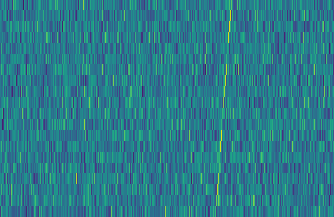signal: (211, 0, 237, 217)
